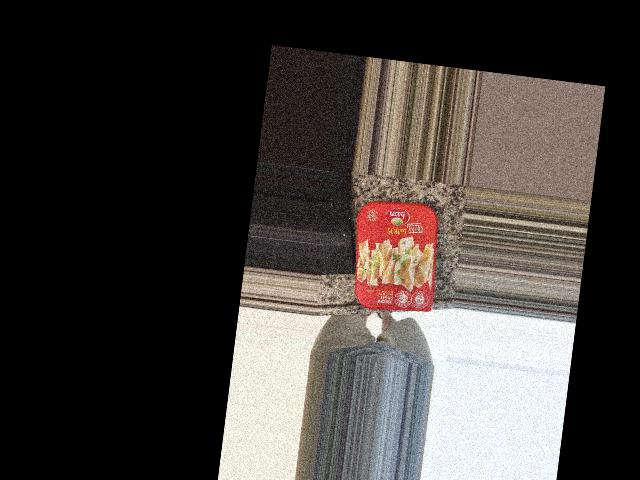cheese: (331, 217, 432, 337)
